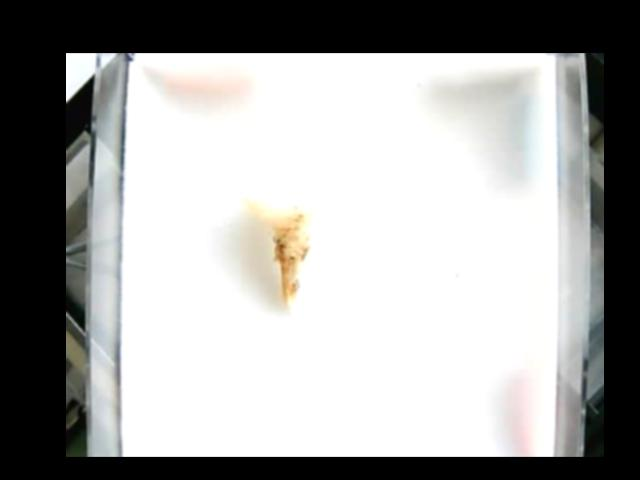Mooli: (243, 190, 328, 312)
